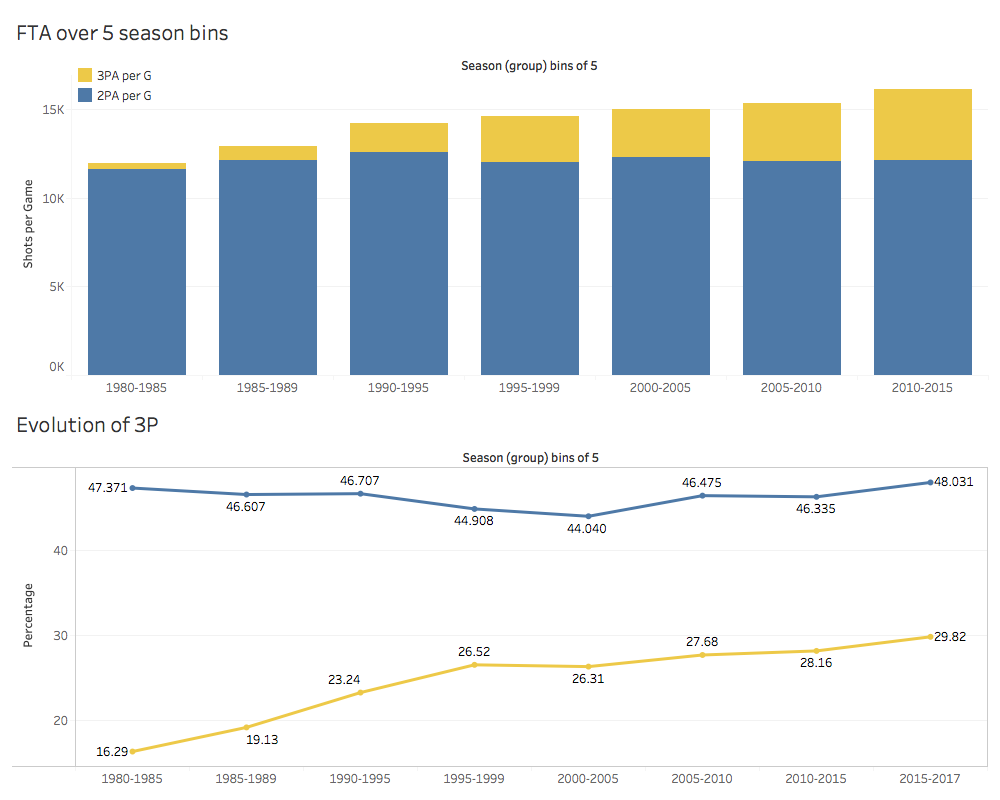

The page's visual inventory and layout, read from the dashboard file:
{"tool":"tableau","page":{"name":"Dashboard - FTA","canvas":[1000,800],"ordinal":0},"visuals":[{"type":"worksheet","title":"FTA over 5 season bins","mark":"Automatic","box":[8,8,984,392]},{"type":"legend","title":"FTA over 5 season bins","param":"[federated.17a09wr06ypdr610gk5lw0ynw3zw].[:Measure Names]","box":[71,61,160,48]},{"type":"worksheet","title":"Evolution of 3P","mark":"Line","rows":["Calculation_164592519228395520","Calculation_164592519228686337"],"box":[8,400,984,392]}]}

Visuals, with their boxes in screenshot pixels (x1, y1, x2, y2), scaled from the page's 1000x800 canvas onto the 1000x800 screenshot:
"FTA over 5 season bins" worksheet: <box>8,8,992,400</box>
"FTA over 5 season bins" legend: <box>71,61,231,109</box>
"Evolution of 3P" worksheet (Line marks): <box>8,400,992,792</box>
